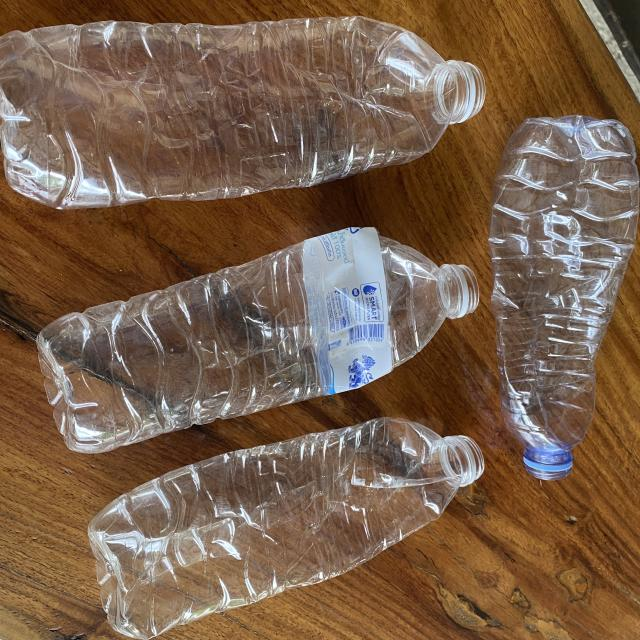plastik: (37, 227, 479, 453), (0, 16, 484, 209), (88, 418, 483, 639), (490, 115, 640, 480)
